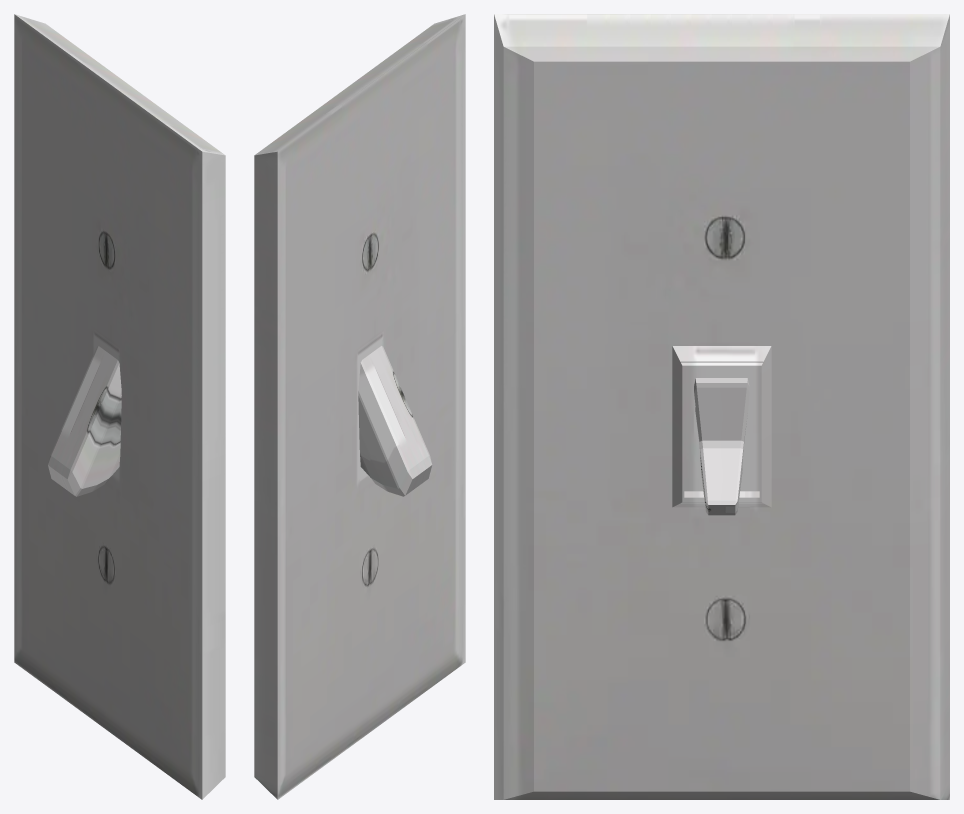
File: lightswtich.glb
3 renders of one model, left to right at view 1: azimuth 30°, elevation 25°; view 2: azimuth 150°, elevation 25°; view 3: azimuth 270°, elevation 25°, orthographic. The views are drawn at different scales.
Visible parts, largest first — view 1: base, switch; view 2: base, switch; view 3: base, switch.
Part boxes in pixels (left/top/right/bottom): base: left=14, top=14, right=225, bottom=799; switch: left=48, top=346, right=121, bottom=496; base: left=254, top=14, right=465, bottom=799; switch: left=358, top=346, right=432, bottom=496; base: left=494, top=14, right=949, bottom=799; switch: left=694, top=378, right=749, bottom=515.
Bounding box in the file's own units: 0.0631 × 0.3089 × 0.1623.
Materials: 1 (1 with a texture image).
